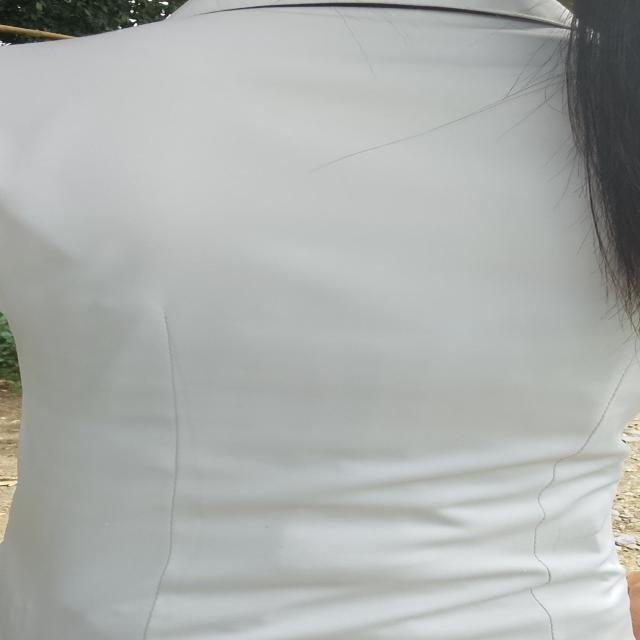education_female_uniform: (7, 3, 640, 636)
